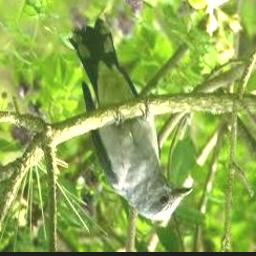Cuckoo: (69, 19, 193, 220)
